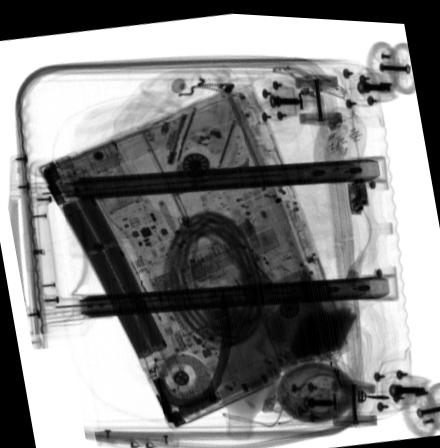Powerbank: (286, 297, 360, 358)
